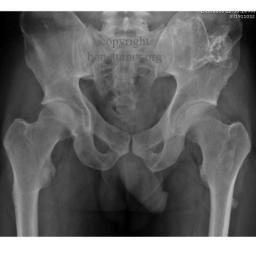cancer: (170, 13, 242, 75)
